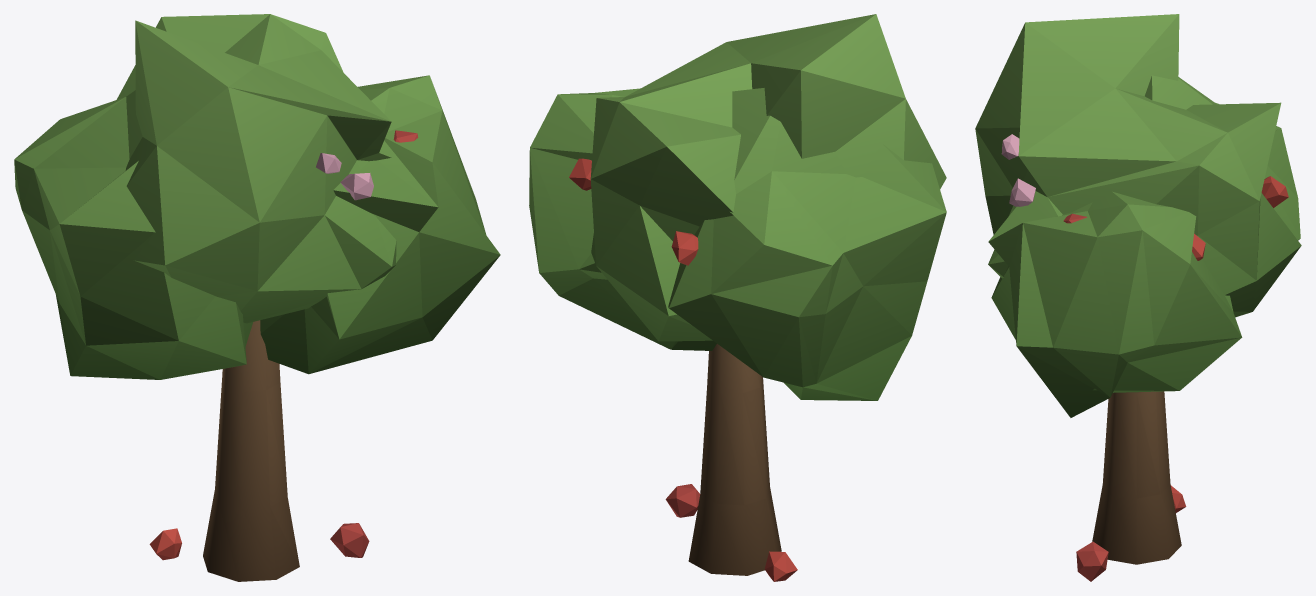
Rendered from tree_fruit_01.glb.
The picture shows the model from 3 angles, left to right: view 1: azimuth 30°, elevation 25°; view 2: azimuth 150°, elevation 25°; view 3: azimuth 270°, elevation 25°; orthographic projection. The views are drawn at different scales.
Visible parts, largest first — view 1: tree_fruit_01; view 2: tree_fruit_01; view 3: tree_fruit_01.
Boxes of the visible parts, box(x1,y1,x2,y2) form: tree_fruit_01: box(14, 14, 500, 581); tree_fruit_01: box(529, 14, 946, 581); tree_fruit_01: box(975, 14, 1301, 581).
Bounding box in the file's own units: 2.32 × 2.88 × 1.73.
